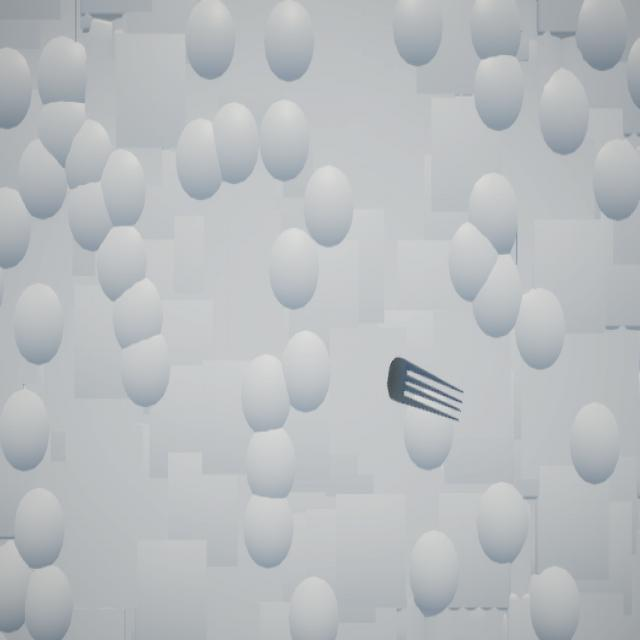top_folk: (387, 358, 465, 423)
